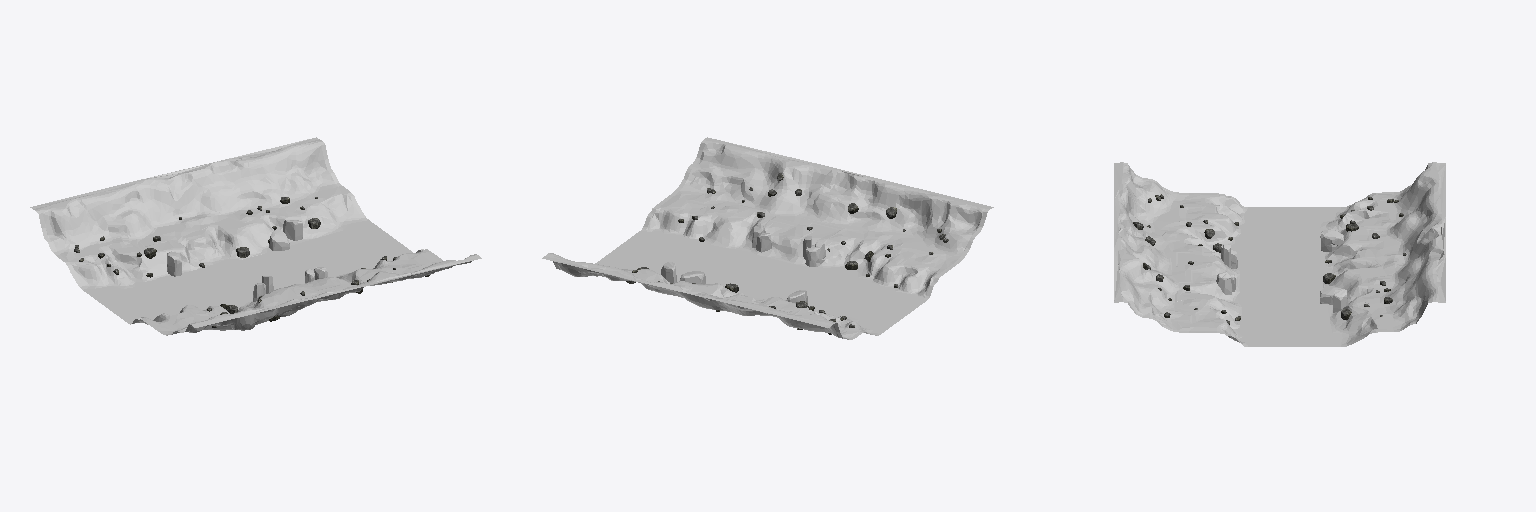
3 views of the same model, side by side, from view 1: azimuth 30°, elevation 25°; view 2: azimuth 150°, elevation 25°; view 3: azimuth 270°, elevation 25° (orthographic).
Visible parts, largest first — view 1: terraintilled_terraintilled_0, rocks_tinyrocks_0; view 2: terraintilled_terraintilled_0, rocks_tinyrocks_0; view 3: terraintilled_terraintilled_0, rocks_tinyrocks_0.
Boxes of the visible parts, <box> form: terraintilled_terraintilled_0: <box>30,137,481,335</box>; rocks_tinyrocks_0: <box>74,197,429,327</box>; terraintilled_terraintilled_0: <box>542,137,993,339</box>; rocks_tinyrocks_0: <box>626,173,948,334</box>; terraintilled_terraintilled_0: <box>1114,162,1445,346</box>; rocks_tinyrocks_0: <box>1133,194,1406,324</box>.
Bounding box in the file's own units: 24.54 × 3.9 × 24.54.
Materials: 3 (1 with a texture image).